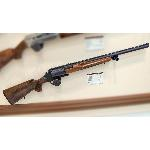Senapan: (3, 41, 149, 111)
